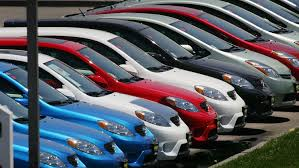car: (1, 26, 249, 134), (12, 16, 275, 116), (8, 26, 254, 130), (1, 38, 221, 150), (1, 53, 194, 166), (91, 12, 297, 103), (1, 63, 162, 162), (104, 6, 299, 78), (135, 1, 297, 59), (1, 97, 129, 166), (226, 2, 299, 34)
